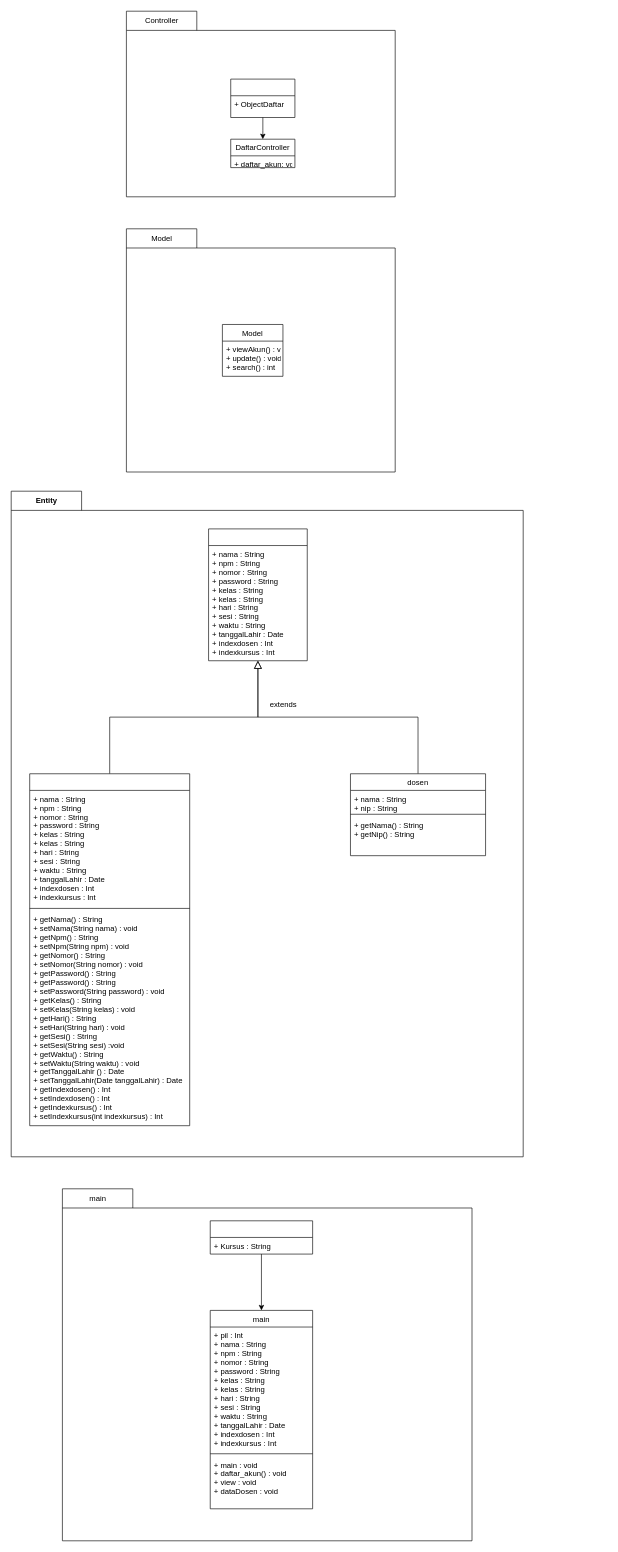
Image size: 618x1552. Some labels were removed from this diagram. The shapes that lost their labels are listed below. From the top down, each one's box as (x1, y1, x2, y2) in pixels, then its label:
(230, 78, 295, 118): ObjectController
(208, 528, 307, 661): induk
(29, 773, 190, 1126): akun
(210, 1220, 313, 1254): listkursus
